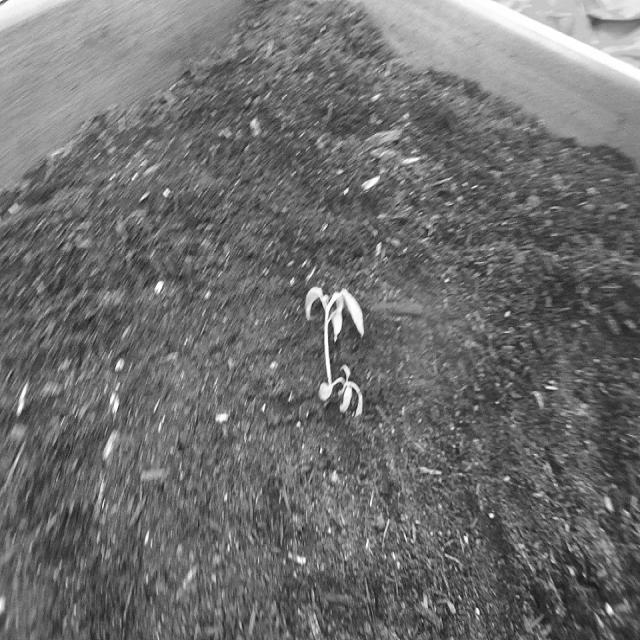Healthy: (297, 272, 374, 432)
